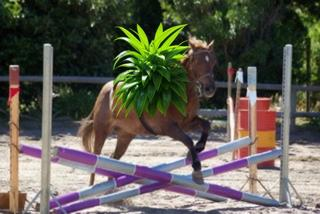horse: (85, 35, 224, 189)
pottedplant: (113, 23, 188, 118)
